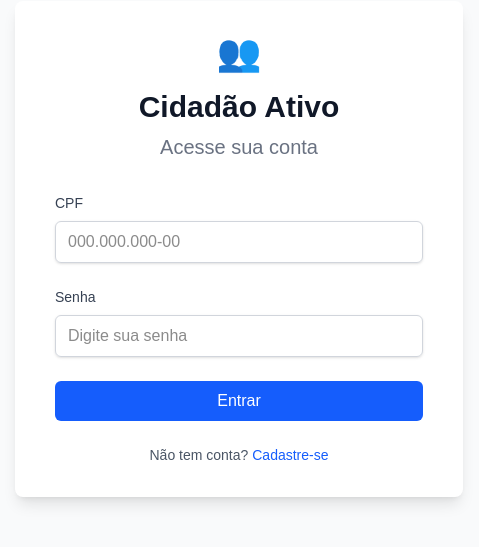
Login Component › Form Validation › should show error when CPF is empty on submit
Click the button "Entrar". click: {"x": 239, "y": 401}
box: x1=55 y1=381 x2=423 y2=421
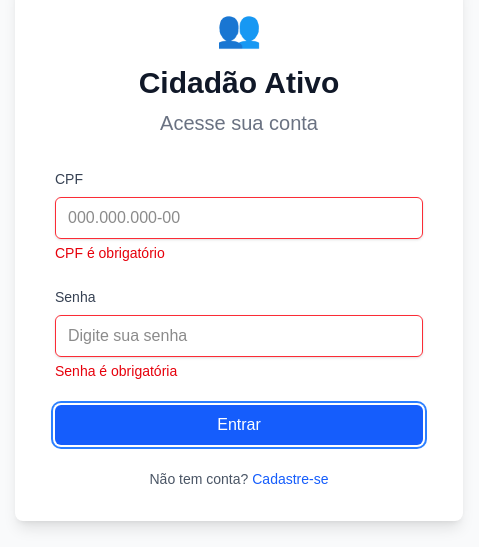
Result: the text "CPF é obrigatório" is shown at x1=55 y1=245 x2=165 y2=261
